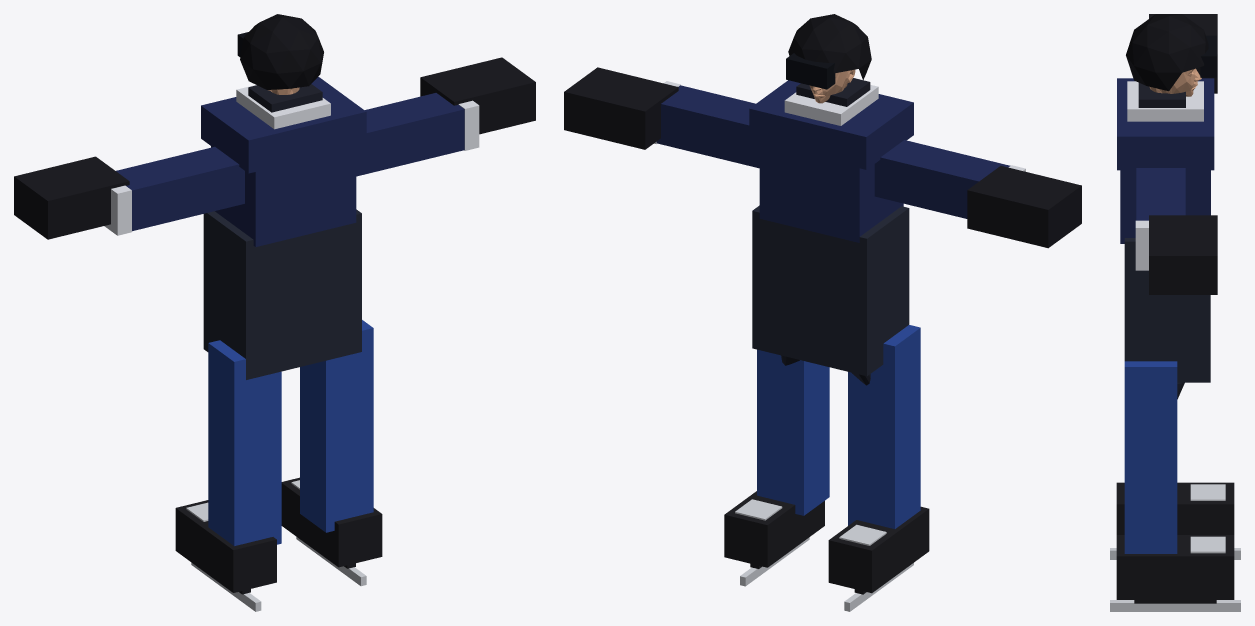
Rendered from player.glb.
3 views of the same model, side by side, from view 1: azimuth 30°, elevation 25°; view 2: azimuth 150°, elevation 25°; view 3: azimuth 270°, elevation 25° (orthographic). The views are drawn at different scales.
Parts seen in each view (by area): view 1: slot_jersey, slot_socks, slot_pants, slot_gloves, slot_skates, slot_helmet; view 2: slot_jersey, slot_socks, slot_pants, slot_gloves, slot_skates, slot_helmet, M_lowpoly; view 3: slot_jersey, slot_skates, slot_socks, slot_pants, slot_gloves, slot_helmet, M_lowpoly.
Boxes of the visible parts, x1,y1,x2,y2 form: slot_jersey: (104,76,479,246); slot_socks: (208,320,373,546); slot_pants: (203,209,361,379); slot_gloves: (14,57,535,239); slot_skates: (175,477,382,611); slot_helmet: (237,14,323,89); slot_jersey: (654,78,1025,242); slot_socks: (757,325,920,528); slot_pants: (752,205,909,376); slot_gloves: (564,67,1081,248); slot_skates: (724,491,929,611); slot_helmet: (786,14,871,89); M_lowpoly: (781,69,870,385); slot_jersey: (1117,78,1214,270); slot_skates: (1110,482,1240,611); slot_socks: (1124,361,1177,553); slot_pants: (1124,238,1210,382); slot_gloves: (1149,14,1217,294); slot_helmet: (1126,14,1216,91); M_lowpoly: (1149,68,1201,399).
Size of the model in its own units: 1.7 by 1.86 by 0.3889.
Materials: 1 (1 with a texture image).
